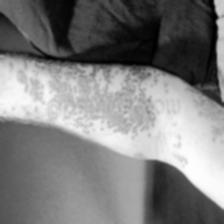Toxin: (10, 62, 154, 100), (72, 114, 156, 136), (188, 94, 224, 138)
